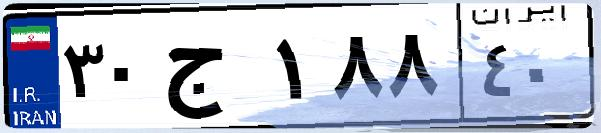0: (525, 38, 570, 115), (110, 28, 158, 98)
1: (270, 28, 330, 110)
3: (57, 26, 110, 100)
4: (475, 38, 525, 113)
8: (385, 28, 445, 110), (330, 28, 385, 110)
ج: (158, 20, 270, 120)
